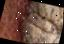plaque psoriasis: (6, 0, 64, 44)
